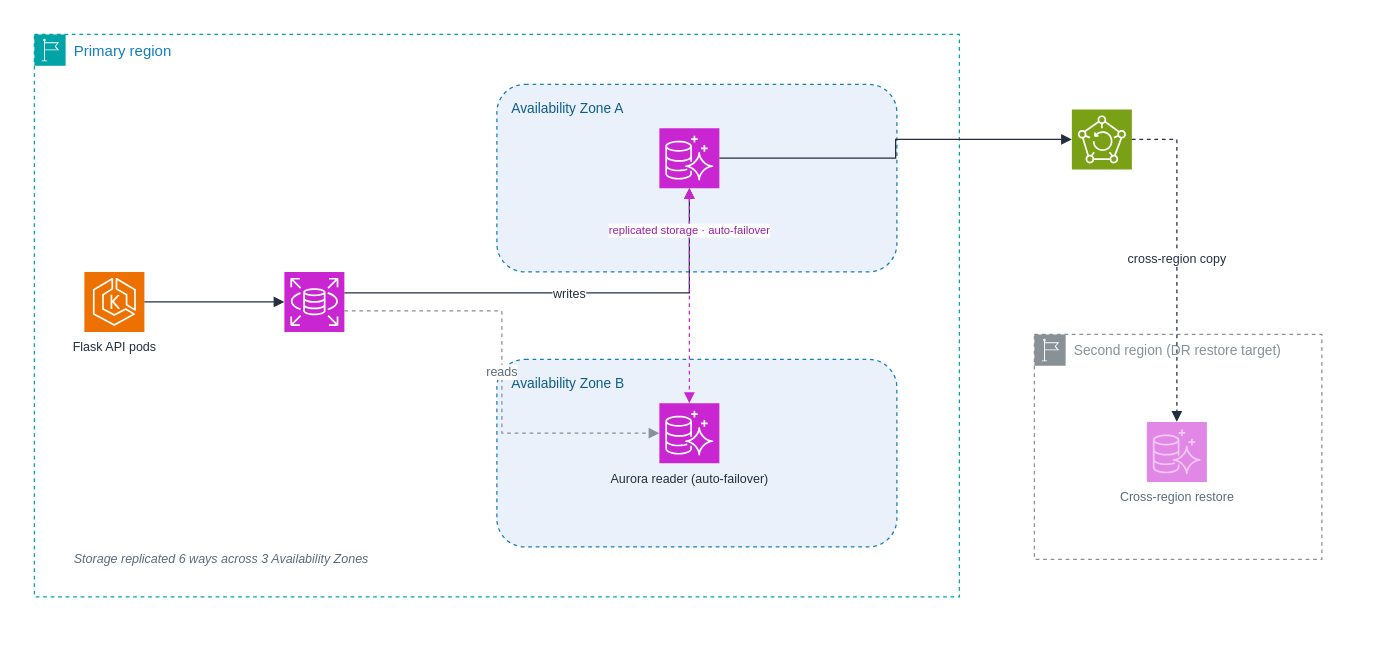
The diagram is 1380 pixels wide and 655 high, and some of its shapes have lost their labels. Here are the shapes that lost their labels. From the top down, the centre of each, then its label:
the point at 688,157: Aurora writer
the point at 1101,138: AWS Backup immutable vault · PITR (35d)
the point at 313,301: RDS Proxy (pooling)
